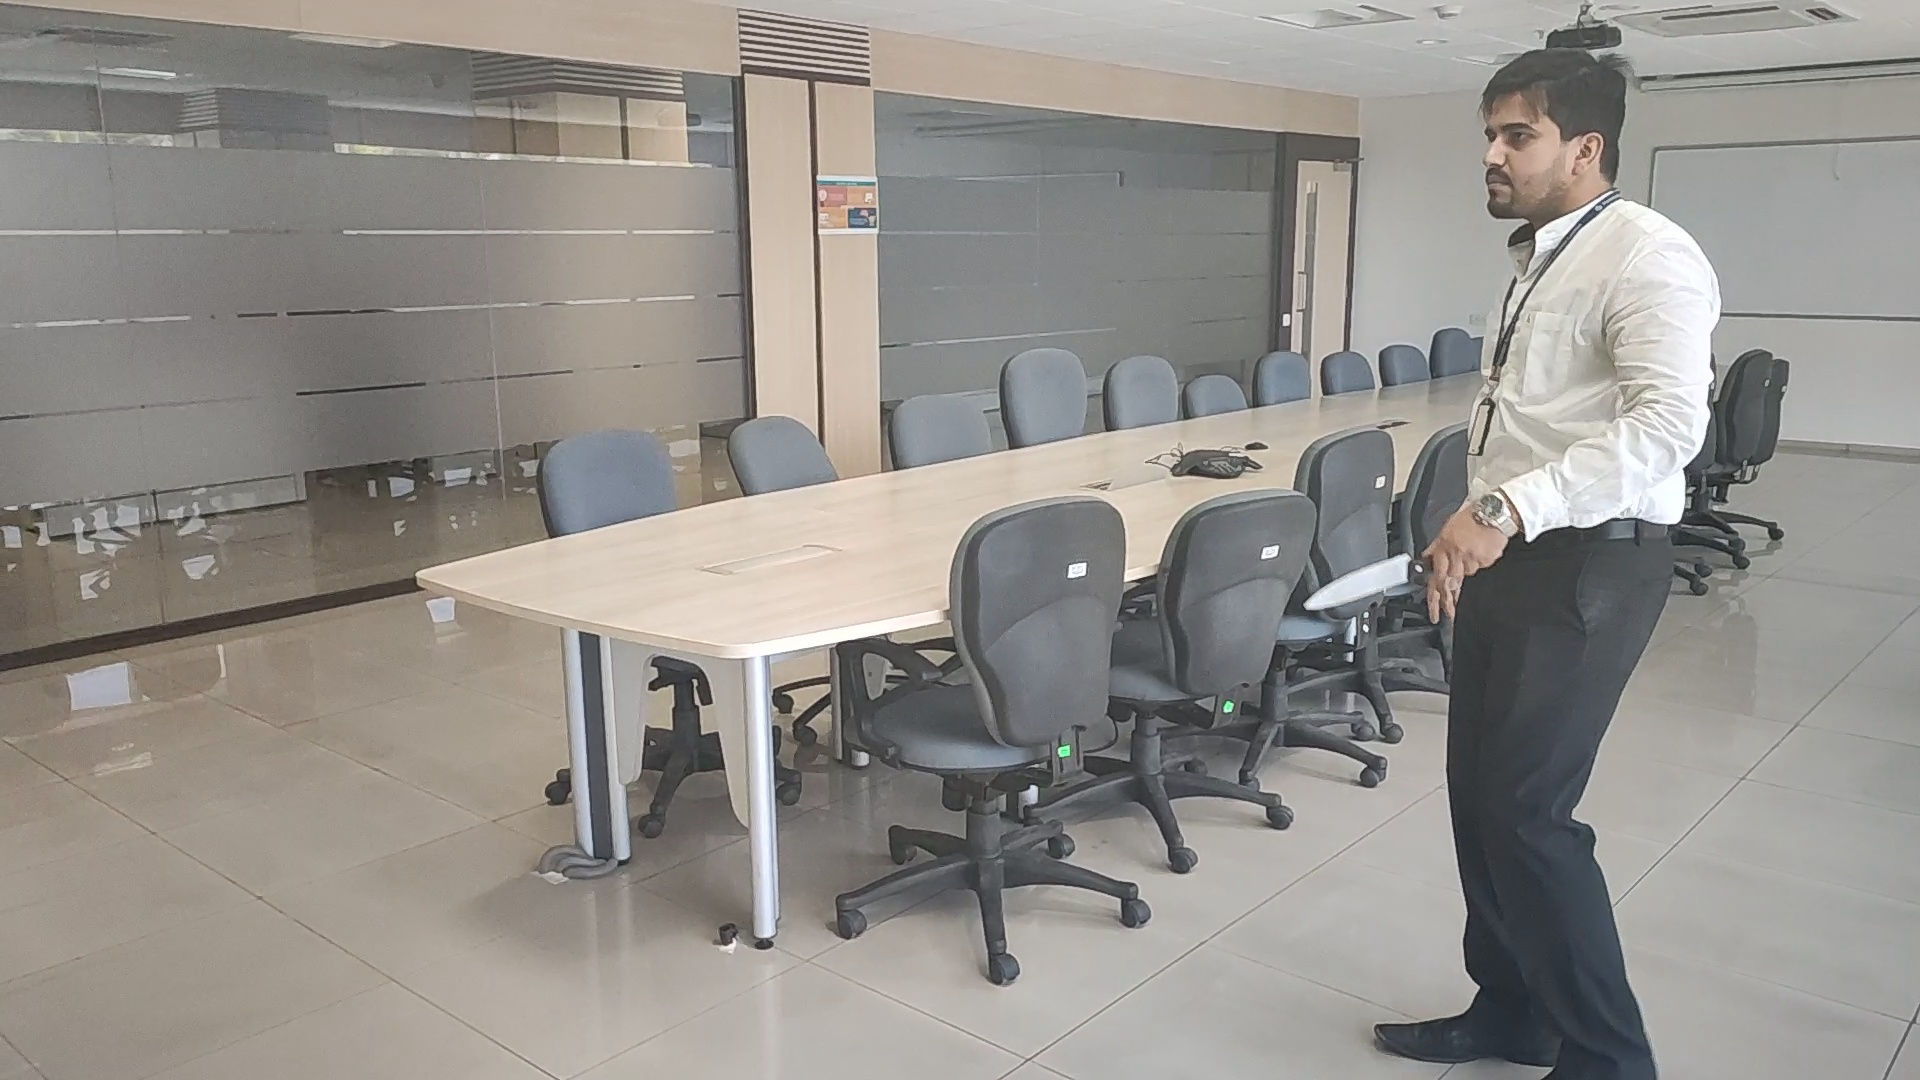knife: (1303, 553, 1420, 611)
